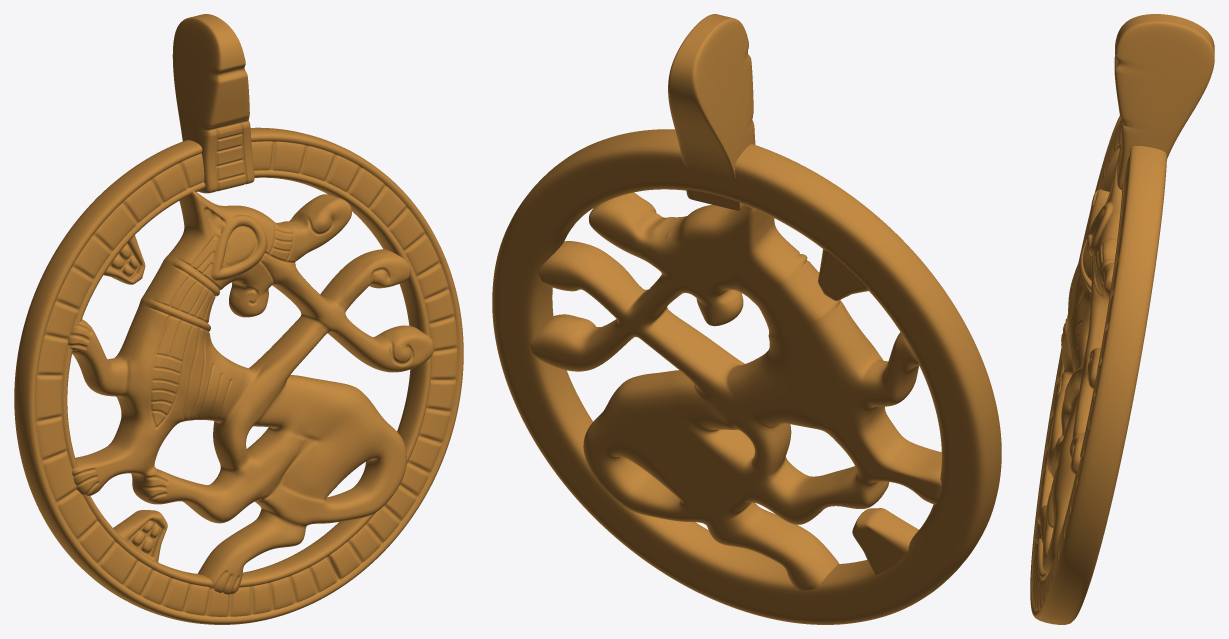
Rendered from amuleto.glb.
3 views of the same model, side by side, from view 1: azimuth 30°, elevation 25°; view 2: azimuth 150°, elevation 25°; view 3: azimuth 270°, elevation 25° (orthographic). The views are drawn at different scales.
Parts seen in each view (by area): view 1: Object_2, Object_3, Object_4, Object_5, Object_6; view 2: Object_2, Object_4, Object_3, Object_5; view 3: Object_3, Object_2, Object_4.
Part boxes in pixels (<box>): Object_2: <box>67,14,409,594</box>; Object_3: <box>14,127,463,624</box>; Object_4: <box>14,147,453,607</box>; Object_5: <box>103,235,167,562</box>; Object_6: <box>113,70,242,561</box>; Object_2: <box>530,14,941,590</box>; Object_4: <box>492,145,986,624</box>; Object_3: <box>511,129,1001,594</box>; Object_5: <box>819,249,910,571</box>; Object_3: <box>1030,116,1162,624</box>; Object_2: <box>1034,14,1214,567</box>; Object_4: <box>1033,122,1166,624</box>.
Size of the model in its own units: 39.1 by 47.88 by 13.73.
